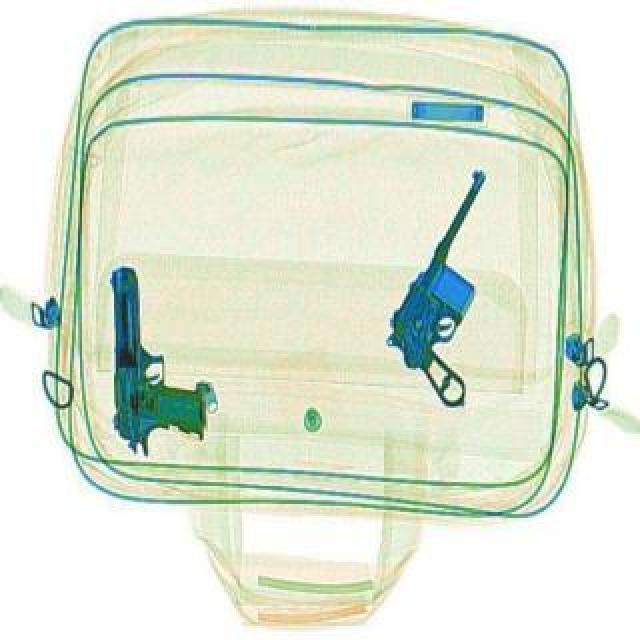gun: (362, 164, 570, 408), (110, 264, 206, 454)
